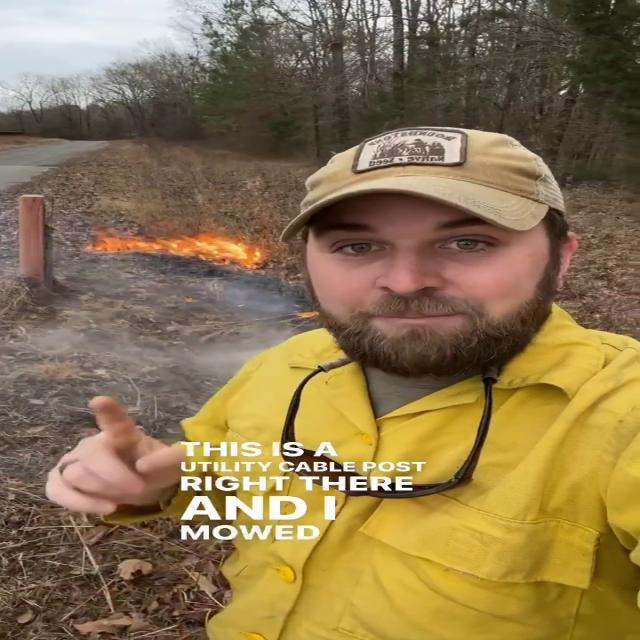Fire: (65, 225, 268, 277)
